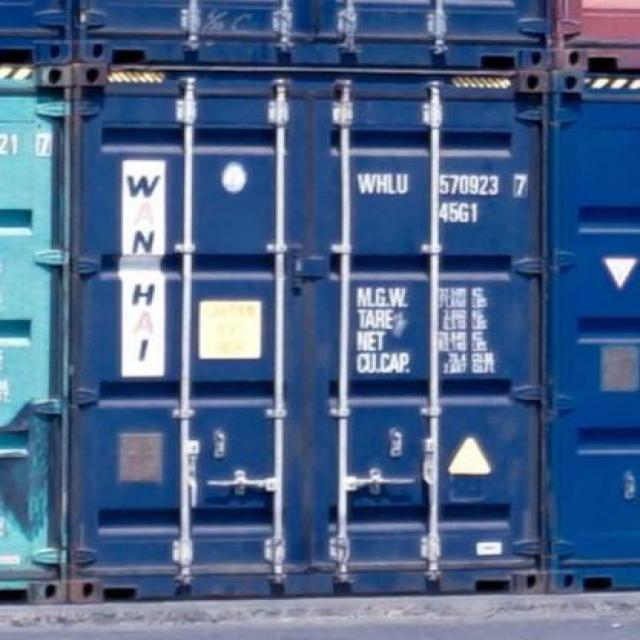ISO: (444, 200, 483, 224)
container_number: (360, 174, 526, 198), (0, 129, 54, 157)
